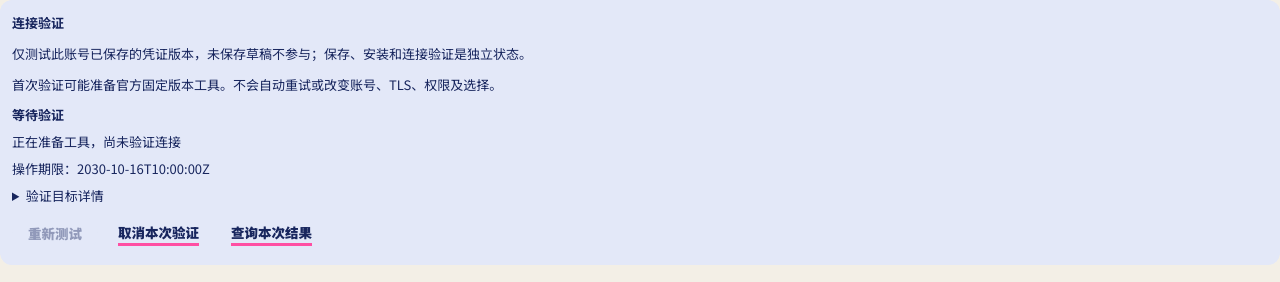
it: 五工具手动验证正式HTTP fixture › 取消后旧pending GET与旧state不覆盖终态
Expected: the text "正在准备工具，尚未验证连接" is shown, x1=12 y1=134 x2=181 y2=150
Click the button "取消本次验证" at (158,233), box x1=106 y1=215 x2=211 y2=251
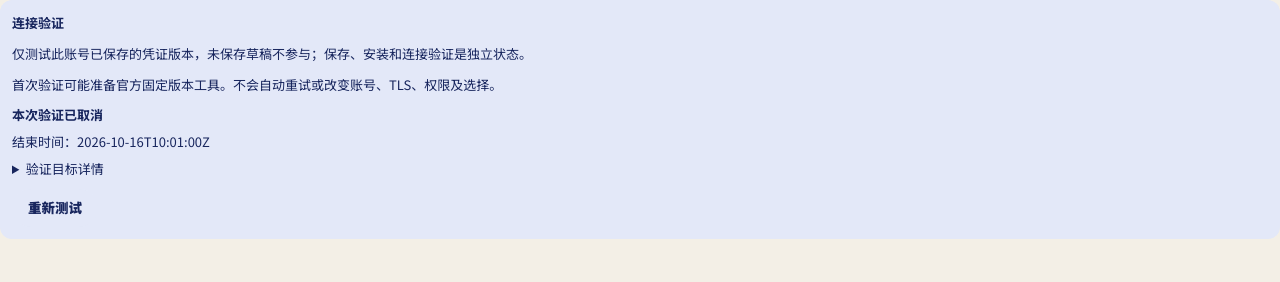
Result: the text "本次验证已取消" is shown at x1=12 y1=107 x2=103 y2=123
